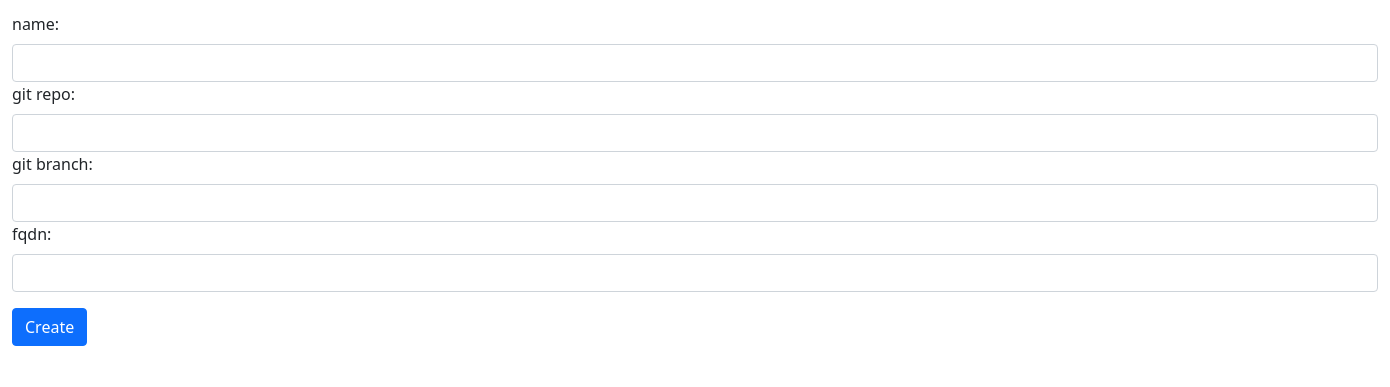
Test: AppNginxAdd › submit nginx app duplicate
This screenshot has width=1390, height=387.
In the field with test id "nginx-add-name": (695, 63) [12,44,1378,82], type "test-aa"
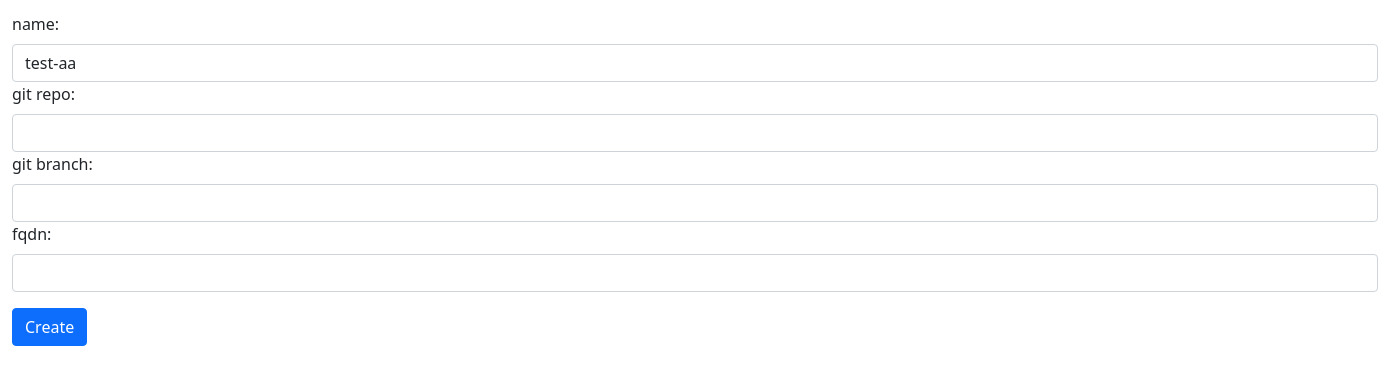
Click the button "Create": (50, 327) [12,308,87,346]
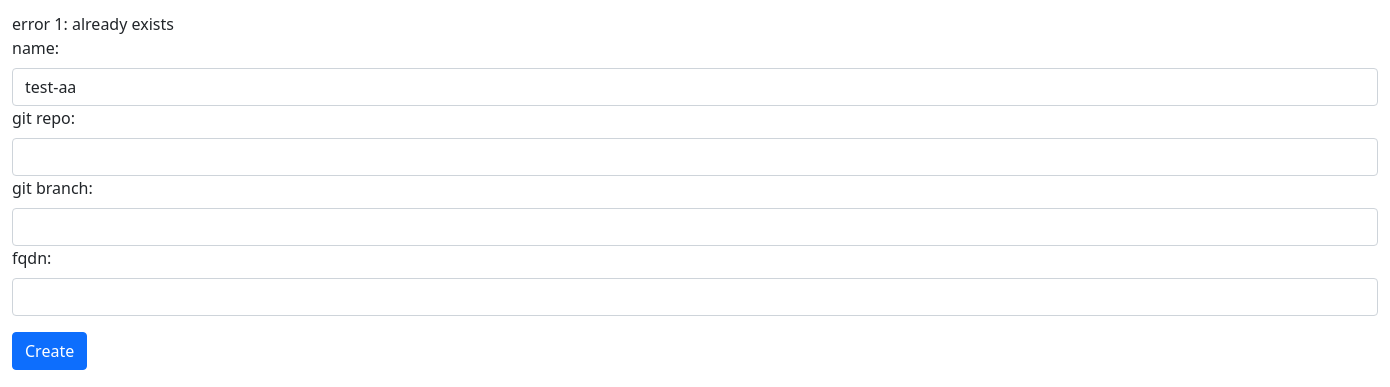
Now the text with test id "nginx-add-message" shows "already exists", box [12,13,174,35]
